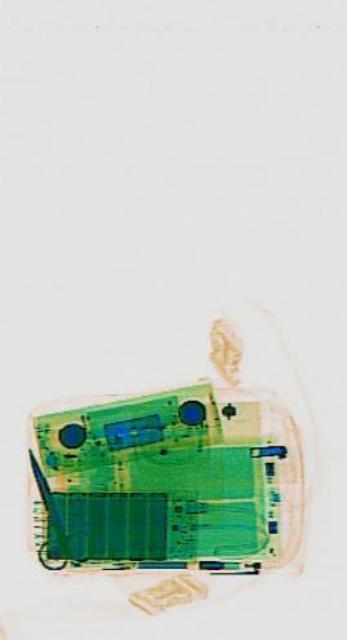Scissors: (7, 423, 95, 592)
